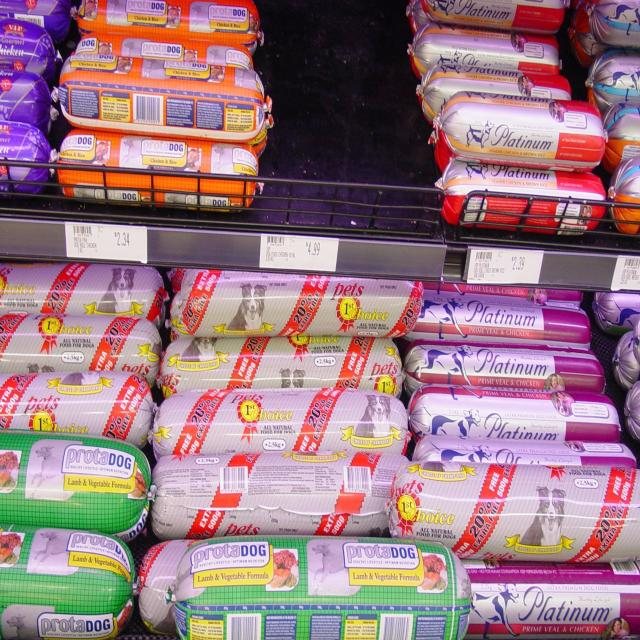empty_space: (275, 13, 409, 211)
